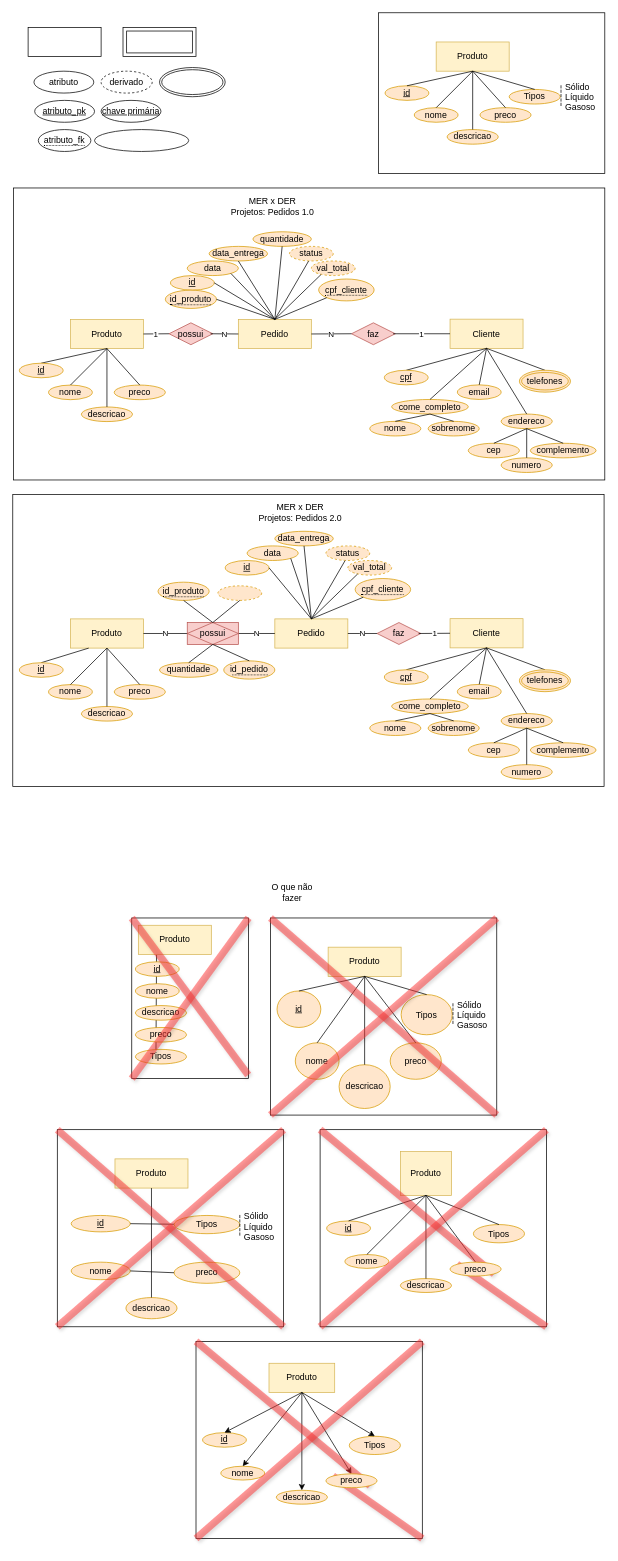
This 618x1561 diagram has some shape labels left out. The centre of each missing label's shape, as x and y in pixels:
"chave estrangeira" goes at [141,140].
"Entidade" goes at [64,42].
"Entidade Fraca" goes at [159,42].
"multivalorado" goes at [192,82].
"subtotal" goes at [239,592].
